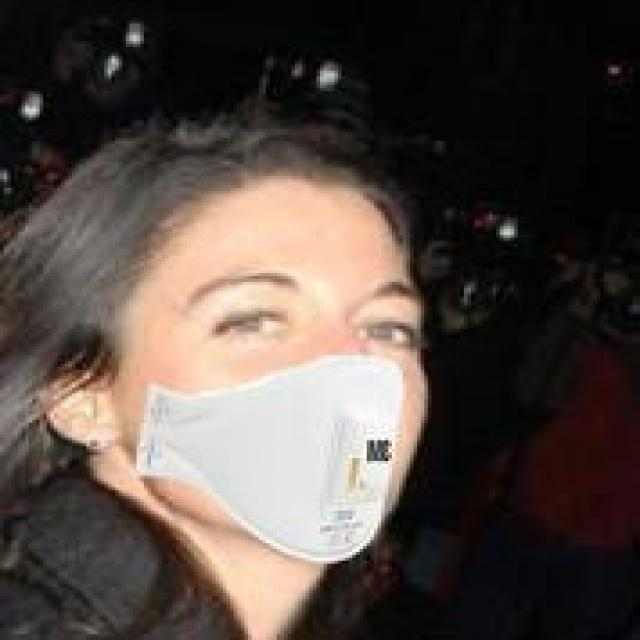mask: (50, 80, 464, 572)
